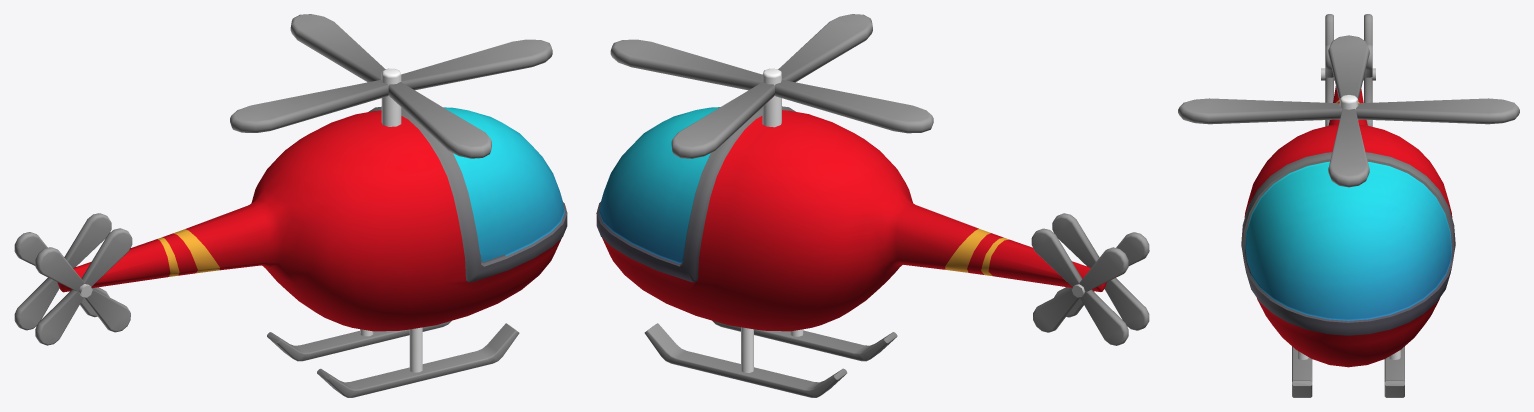
Rendered from helicopter (1).fbx.
The picture shows the model from 3 angles, left to right: view 1: azimuth 30°, elevation 25°; view 2: azimuth 150°, elevation 25°; view 3: azimuth 270°, elevation 25°; orthographic projection. The views are drawn at different scales.
Visible parts, largest first — view 1: body, heli_fly4, heli_fly2, heli_fly3, heli_fly1, heli_fly6, heli_fly5; view 2: body, heli_fly4, heli_fly2, heli_fly1, heli_fly3, heli_fly5, heli_fly6; view 3: body, heli_fly2, heli_fly4, heli_fly5, heli_fly6.
Boxes of the visible parts, bbox=[...] form: body: bbox=[57, 68, 567, 397]; heli_fly4: bbox=[230, 39, 552, 132]; heli_fly2: bbox=[290, 14, 491, 158]; heli_fly3: bbox=[35, 228, 132, 345]; heli_fly1: bbox=[14, 213, 111, 330]; heli_fly6: bbox=[35, 247, 130, 332]; heli_fly5: bbox=[14, 232, 109, 317]; body: bbox=[596, 68, 1107, 397]; heli_fly4: bbox=[610, 39, 933, 133]; heli_fly2: bbox=[671, 14, 872, 158]; heli_fly1: bbox=[1031, 228, 1128, 345]; heli_fly3: bbox=[1052, 213, 1149, 330]; heli_fly5: bbox=[1033, 247, 1128, 332]; heli_fly6: bbox=[1054, 232, 1149, 317]; body: bbox=[1241, 68, 1455, 397]; heli_fly2: bbox=[1178, 98, 1519, 124]; heli_fly4: bbox=[1328, 35, 1369, 187]; heli_fly5: bbox=[1364, 14, 1372, 126]; heli_fly6: bbox=[1325, 14, 1333, 126].
Bounding box in the file's own units: 34.71 × 18.01 × 20.92.
